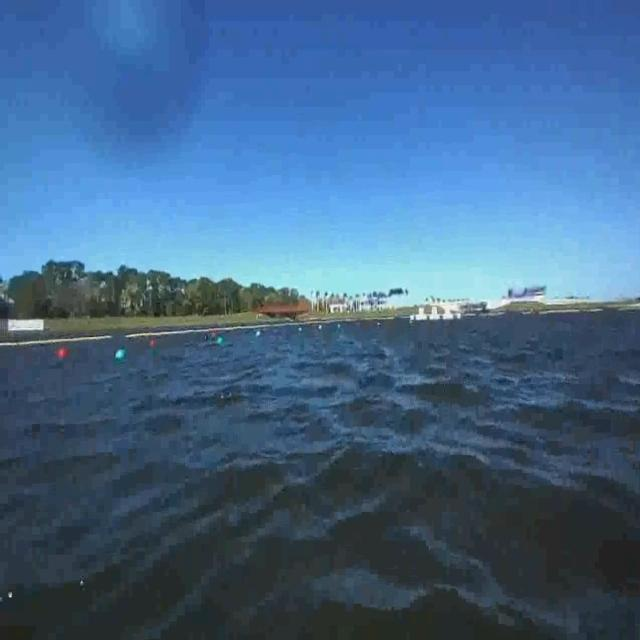green-buoy: (115, 342, 131, 368)
red-buoy: (54, 342, 69, 360)
